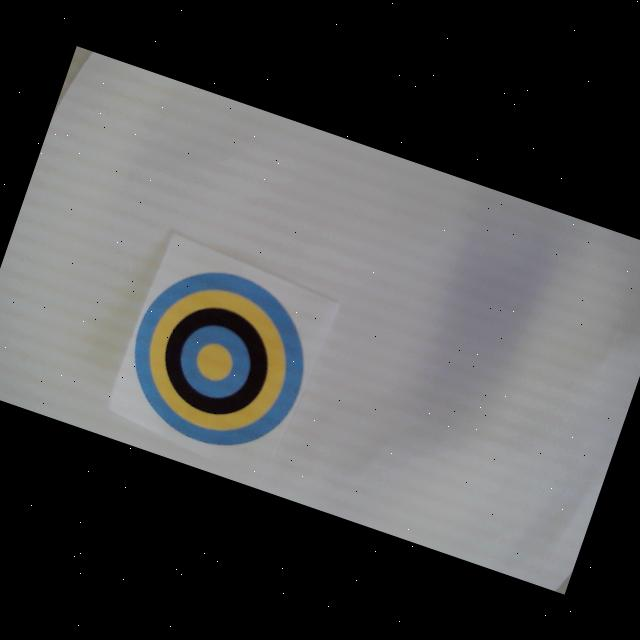COGNITIVE: (110, 249, 328, 466)
